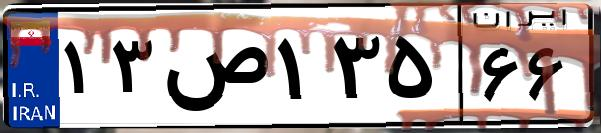1: (270, 28, 330, 110), (57, 26, 110, 100)
3: (330, 28, 385, 110), (110, 28, 158, 98)
5: (385, 28, 445, 110)
6: (475, 38, 525, 113), (525, 38, 570, 115)
ص: (158, 20, 270, 120)
